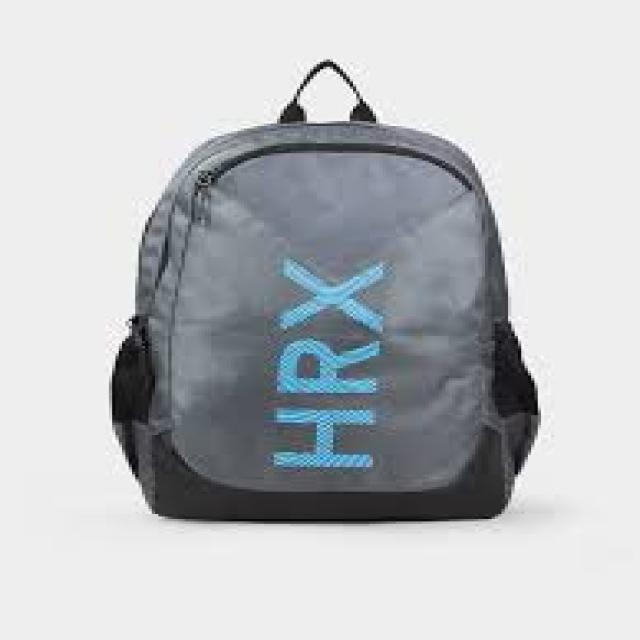backpack: (110, 58, 542, 522)
